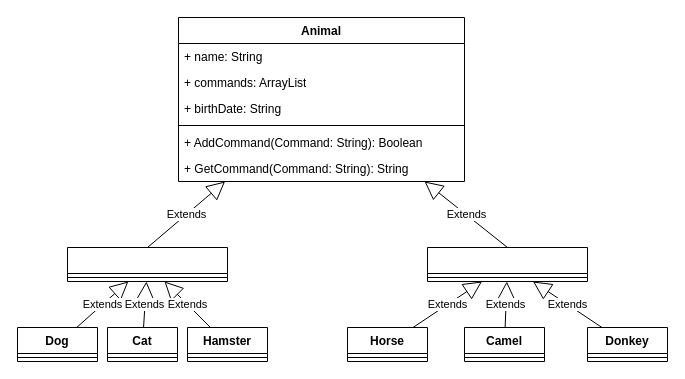
This 685x379 diagram has some shape labels left out. The shapes that lost their labels are listed below. From the top down, each one's centre as x and y in pixels, then its label:
At (x=147, y=264): "Pet".
At (x=507, y=264): "PackAnimal".
